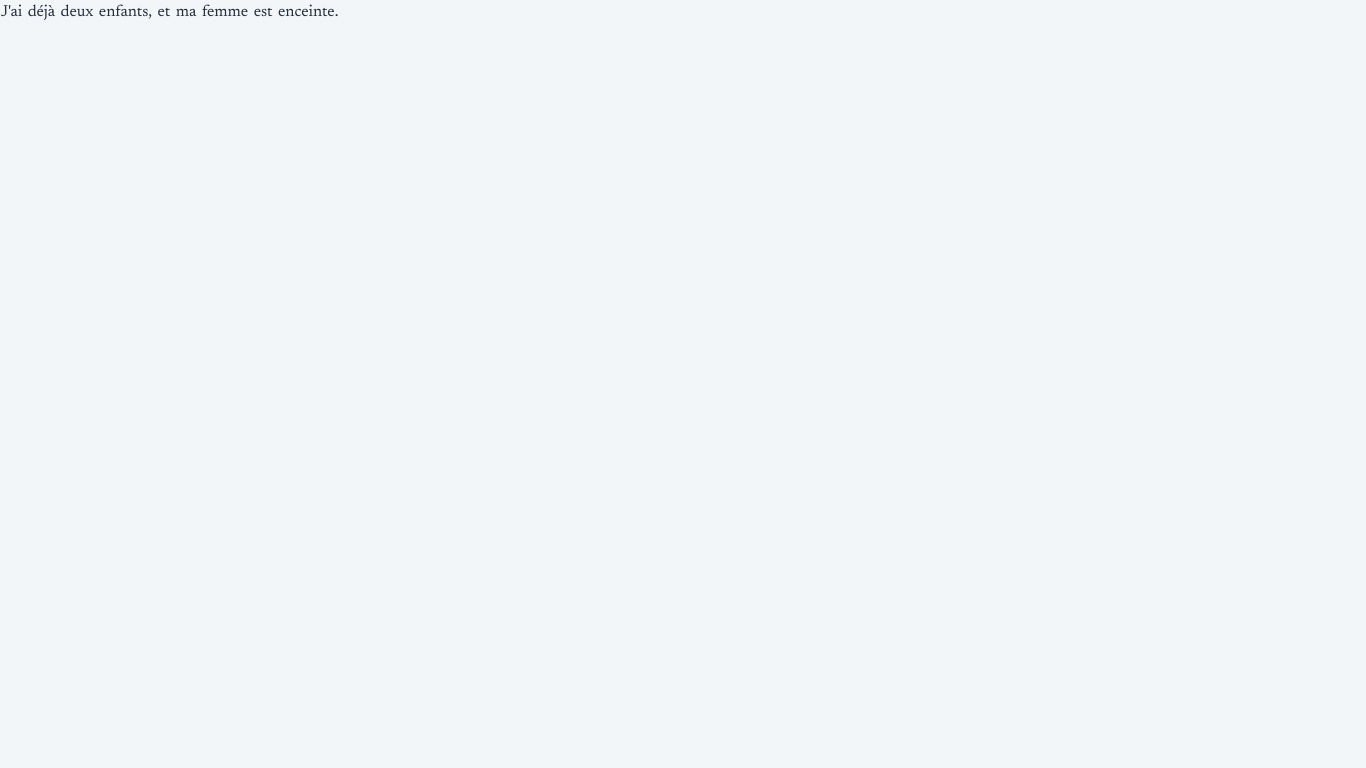
Test case: FrenchWords selection › offers Meaning for a short selection, which opens the phrase card
The width and height of the screenshot is (1366, 768).
Press the mouse on the button "ma": point(186, 12) [175,4,197,20]
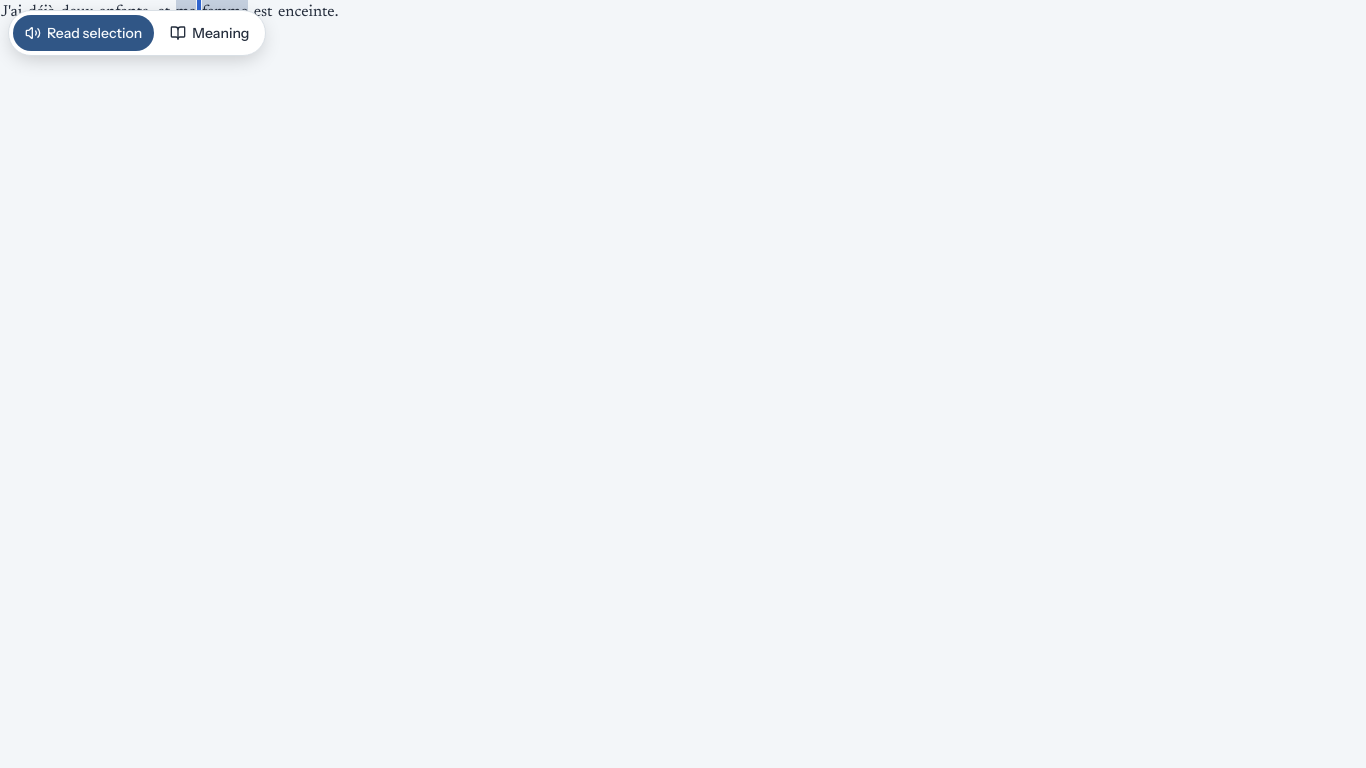
Click the button "Meaning": point(210, 33) [158,15,262,51]
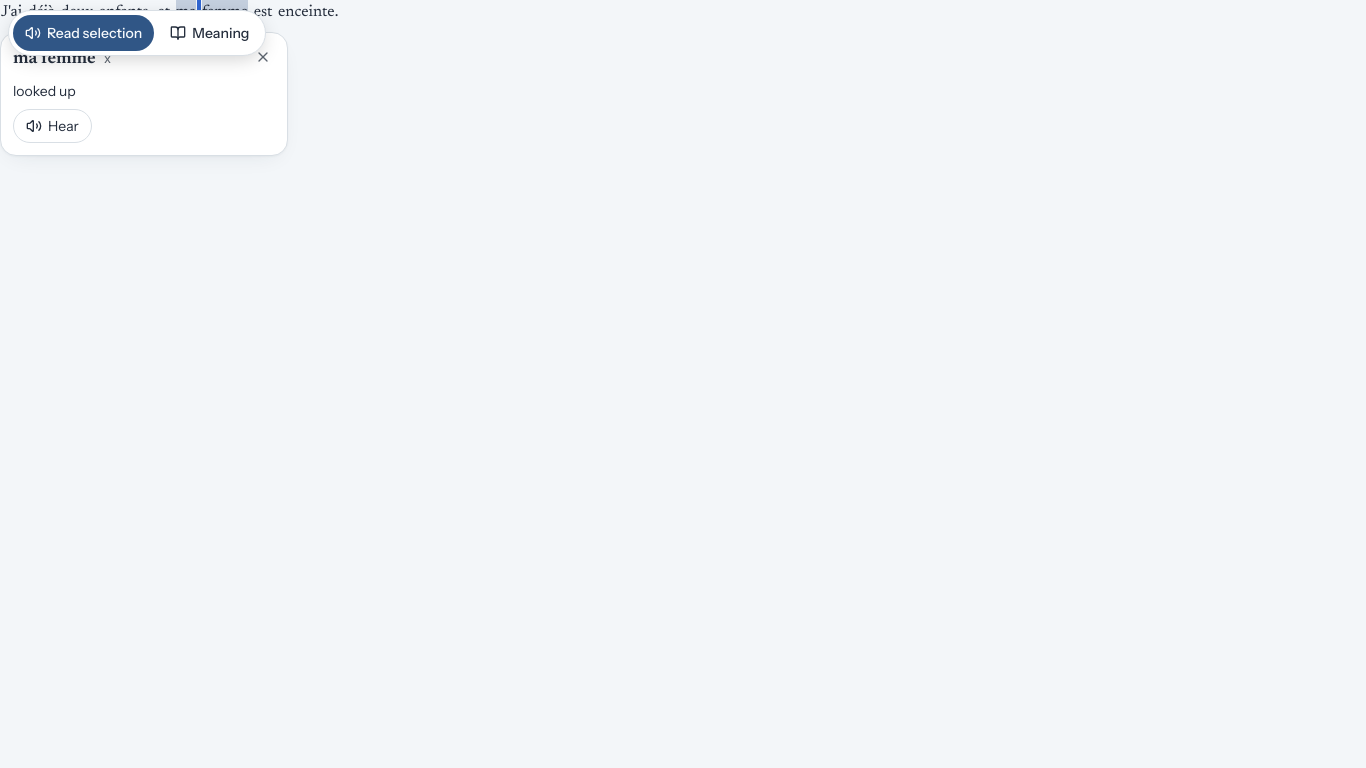
Expected: the text "looked up" is shown, [13,82,76,100]
